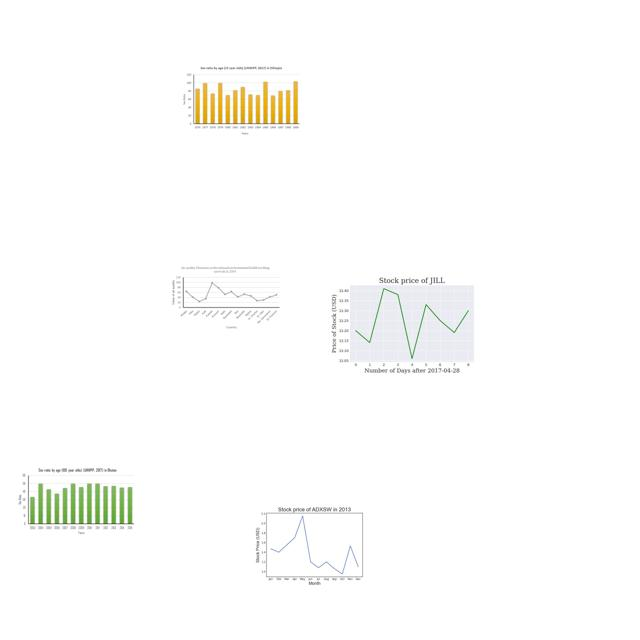Graph: (330, 263, 490, 383), (251, 498, 375, 591), (179, 64, 306, 138), (16, 466, 136, 537), (169, 264, 282, 330)
